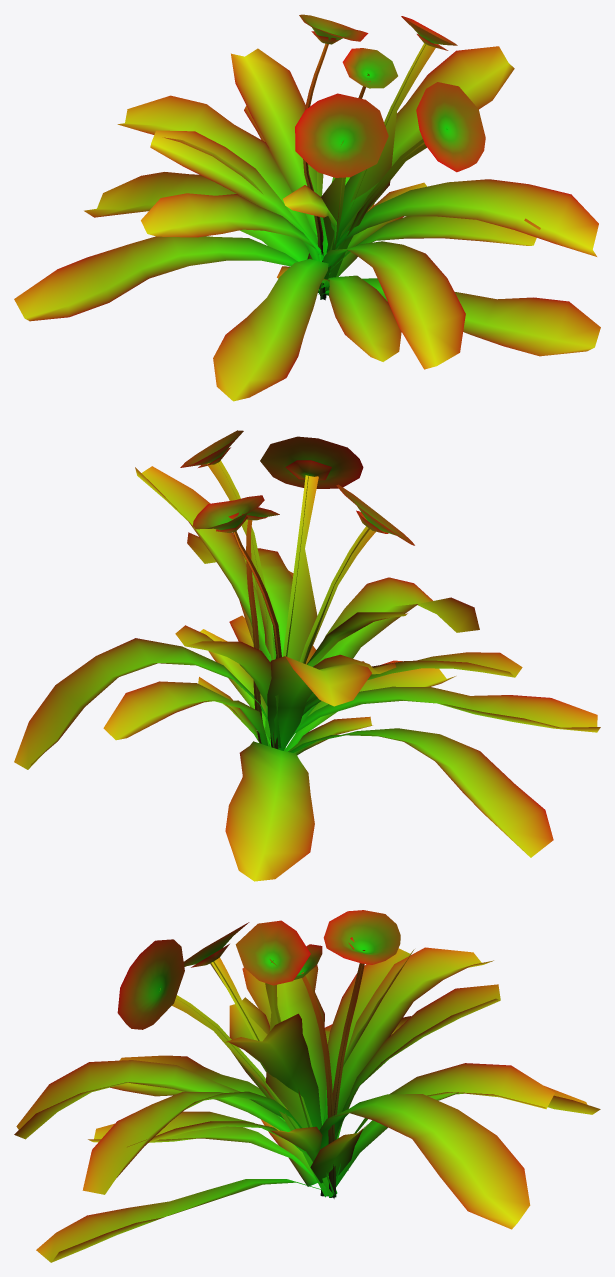
Rendered from Cape Weed_LOD0_Var2_tjmhfcyia.fbx.
3 views of the same model, one above another, from view 1: azimuth 30°, elevation 25°; view 2: azimuth 150°, elevation 25°; view 3: azimuth 270°, elevation 25° (orthographic). The views are drawn at different scales.
Parts seen in each view (by area): view 1: _ffaf_Var2_LOD0; view 2: _ffaf_Var2_LOD0; view 3: _ffaf_Var2_LOD0.
Boxes of the visible parts, x1,y1,x2,y2 form: _ffaf_Var2_LOD0: [14, 14, 600, 401]; _ffaf_Var2_LOD0: [14, 430, 600, 881]; _ffaf_Var2_LOD0: [14, 910, 600, 1262].
Bounding box in the file's own units: 43.34 × 26.01 × 45.13.
